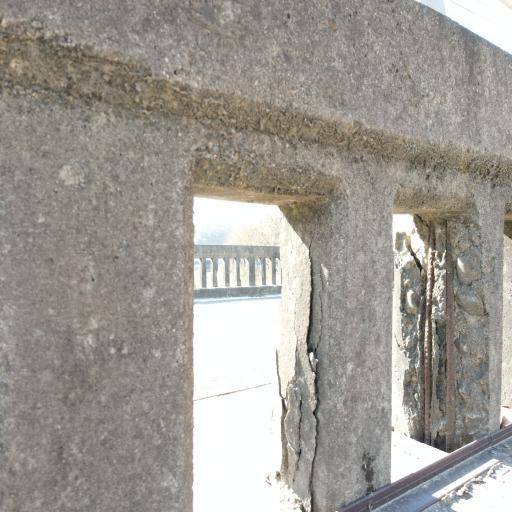exposed_rebar: (424, 220, 435, 444), (446, 224, 455, 452)
spalling: (395, 202, 488, 450)
